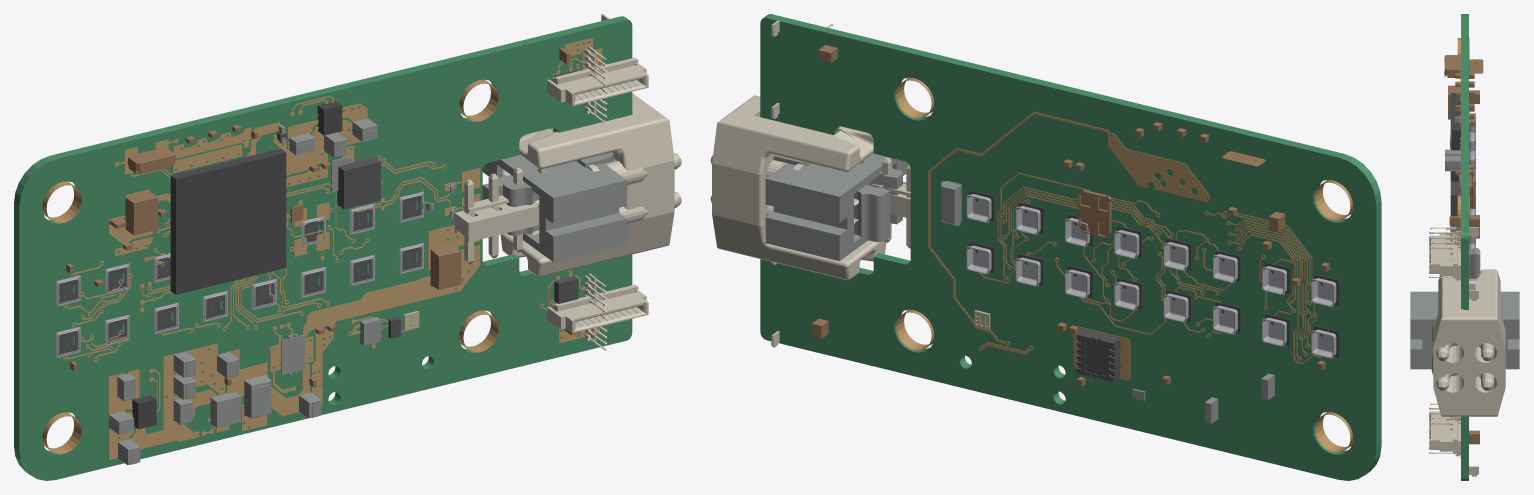
Rendered from assembly.glb.
3 views of the same model, side by side, from view 1: azimuth 30°, elevation 25°; view 2: azimuth 150°, elevation 25°; view 3: azimuth 270°, elevation 25° (orthographic). The views are drawn at different scales.
Visible parts, largest first — view 1: board, copper, connectors, mechanics, ic_mcu, ic_other, passives, ic_mems, pads; view 2: board, connectors, mechanics, copper, ic_mems, ic_other, passives, pads; view 3: connectors, mechanics, board, passives, ic_mcu, ic_mems, ic_other, copper, pads.
Part boxes in pixels (box(x1,y1,x2,y2)): board: box(14, 16, 632, 480); copper: box(63, 38, 602, 460); connectors: box(454, 14, 681, 350); mechanics: box(109, 118, 626, 464); ic_mcu: box(132, 101, 342, 429); ic_other: box(59, 70, 578, 354); passives: box(66, 48, 580, 386); ic_mems: box(56, 191, 423, 358); pads: box(42, 79, 498, 454); board: box(760, 14, 1381, 480); connectors: box(710, 20, 910, 347); mechanics: box(765, 153, 1274, 423); copper: box(928, 111, 1322, 380); ic_mems: box(966, 194, 1336, 358); ic_other: box(969, 190, 1339, 382); passives: box(812, 45, 1329, 386); pads: box(896, 77, 1352, 452); connectors: box(1429, 227, 1505, 476); mechanics: box(1410, 116, 1519, 375); board: box(1461, 14, 1468, 480); passives: box(1444, 55, 1483, 444); ic_mcu: box(1450, 93, 1460, 181); ic_mems: box(1460, 113, 1475, 249); ic_other: box(1450, 112, 1469, 249); copper: box(1460, 49, 1469, 458); pads: box(1457, 38, 1469, 227).
Bounding box in the file's own units: 0.053 × 0.0251 × 0.01.
